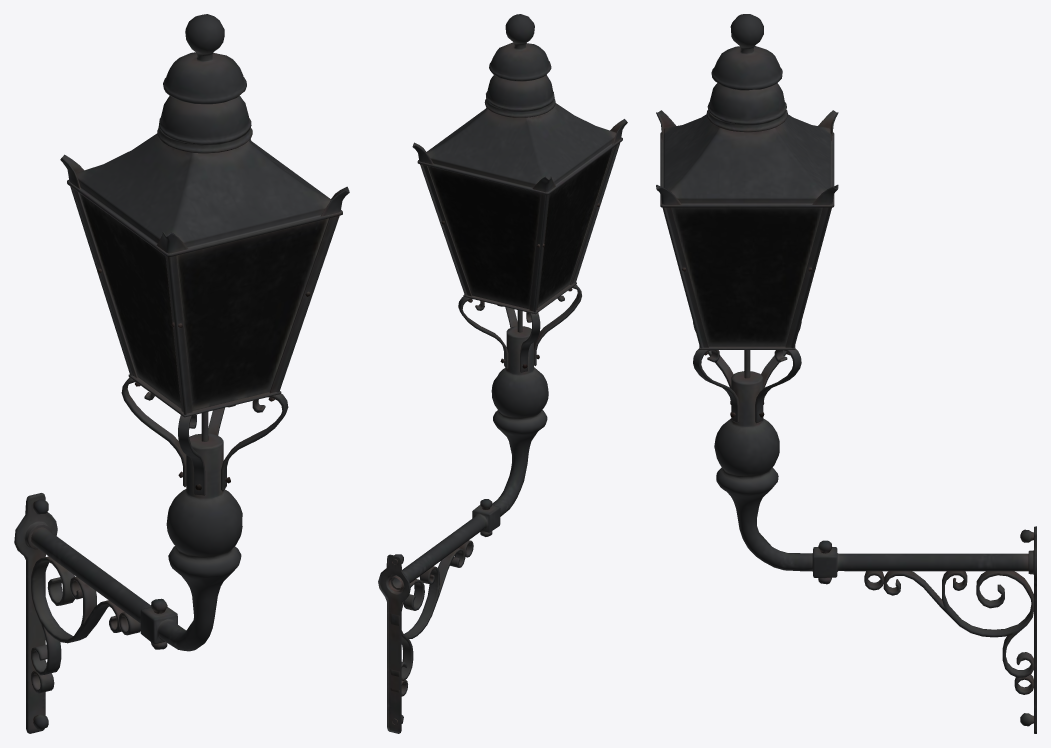
The model's file is ph2_street_lamp_02.glb.
3 renders of one model, left to right at view 1: azimuth 30°, elevation 25°; view 2: azimuth 150°, elevation 25°; view 3: azimuth 270°, elevation 25°, orthographic. The views are drawn at different scales.
Bounding box in the file's own units: 0.3865 × 1.67 × 0.8068.
Materials: 2 (2 with a texture image).
